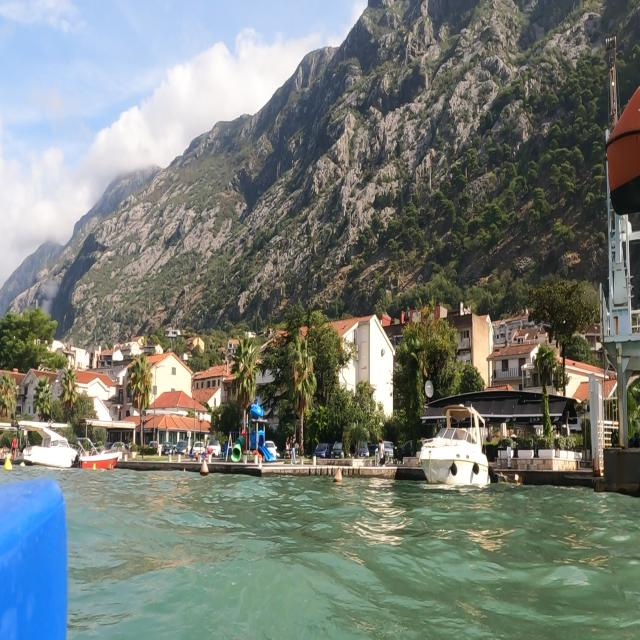boat: (417, 400, 492, 491), (14, 412, 80, 474), (77, 436, 125, 474)
buoy: (332, 464, 348, 489), (199, 456, 211, 476)
